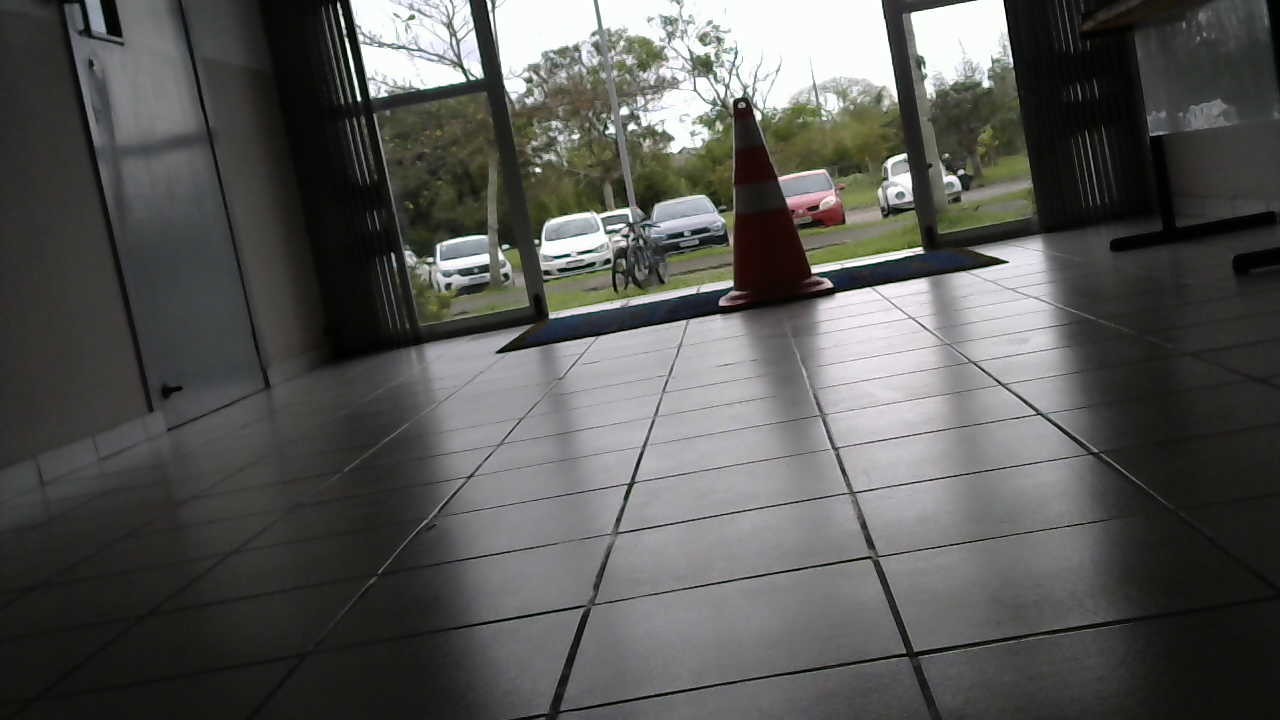cone: (713, 97, 829, 304)
